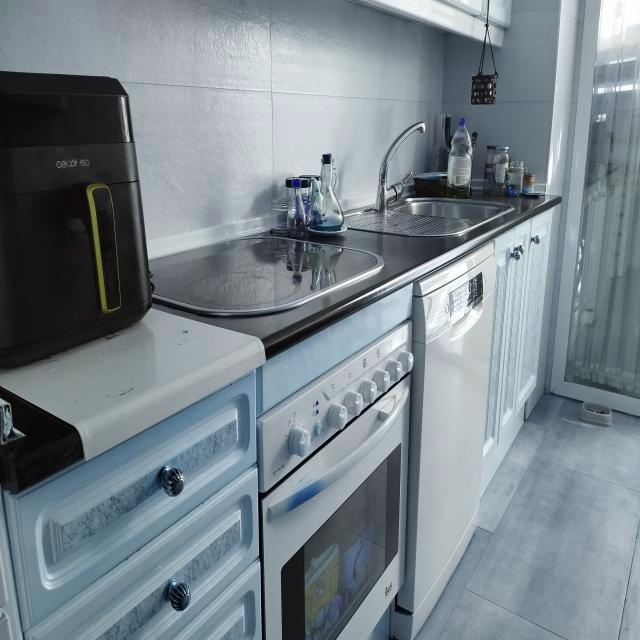cabinet: (2, 372, 263, 640), (480, 209, 553, 497), (343, 0, 512, 46)
countertop: (0, 196, 560, 494)
oven: (256, 320, 414, 639)
shower: (345, 122, 515, 237)
sofa: (149, 237, 386, 317)
